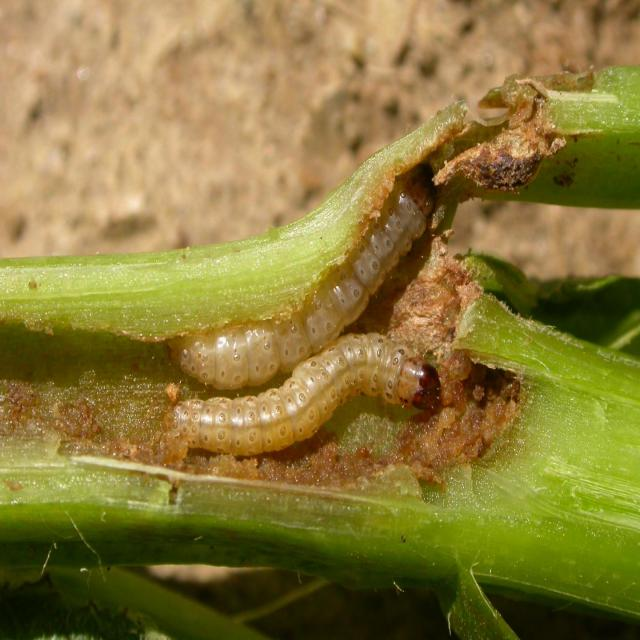cornborer-Larva-: (170, 160, 444, 391), (166, 328, 442, 462)
